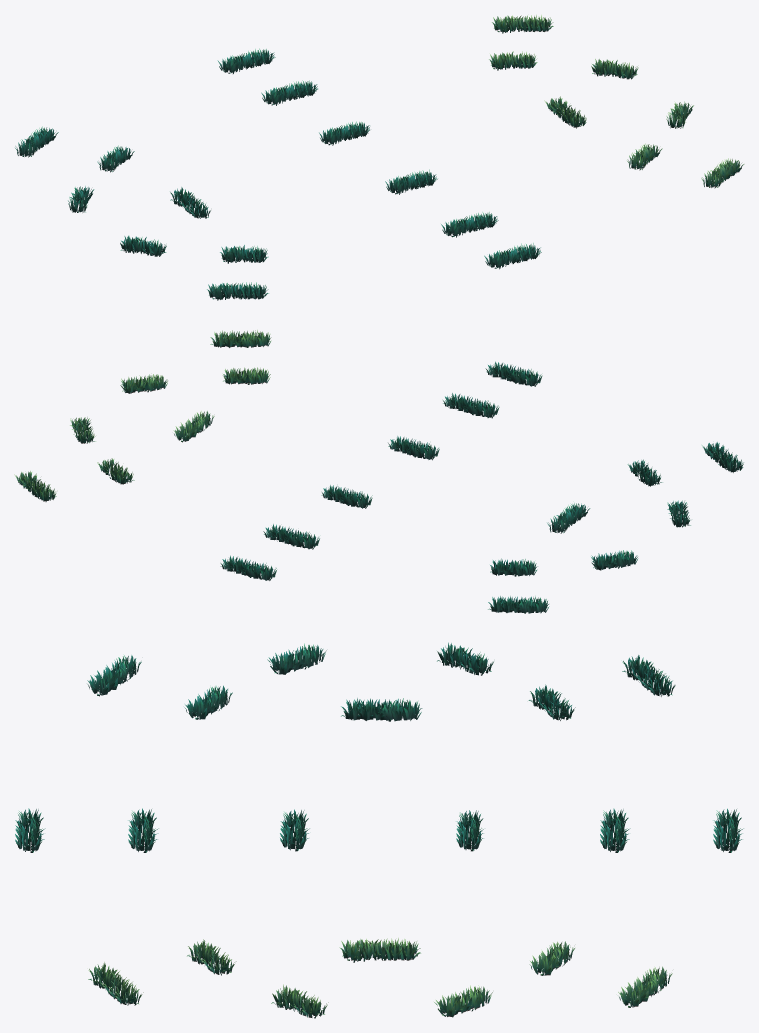
Rendered from pref_SightBlockerGrasses02_WSJ_alpha01_lv1.fbx.
3 views of the same model, one above another, from view 1: azimuth 30°, elevation 25°; view 2: azimuth 150°, elevation 25°; view 3: azimuth 270°, elevation 25° (orthographic). The views are drawn at different scales.
Parts seen in each view (by area): view 1: pref_sm_beach_techgrass_alpha_01_lv1 (×9), pref_sm_beach_techgrass_alpha_yellow01_lv1 (×3), pref_sm_beach_techgrass_alpha_03_lv1 (×3), pref_sm_beach_techgrass_alpha_yellow03_lv1 (×3); view 2: pref_sm_beach_techgrass_alpha_01_lv1 (×9), pref_sm_beach_techgrass_alpha_yellow01_lv1 (×3), pref_sm_beach_techgrass_alpha_yellow03_lv1 (×3), pref_sm_beach_techgrass_alpha_03_lv1 (×3); view 3: pref_sm_beach_techgrass_alpha_01_lv1 (×9), pref_sm_beach_techgrass_alpha_03_lv1 (×4), pref_sm_beach_techgrass_alpha_yellow03_lv1 (×4), pref_sm_beach_techgrass_alpha_yellow01_lv1 (×3).
Boxes of the visible parts, <box> form: pref_sm_beach_techgrass_alpha_01_lv1 (×9): <box>15,48,541,300</box>; pref_sm_beach_techgrass_alpha_yellow01_lv1 (×3): <box>492,15,744,188</box>; pref_sm_beach_techgrass_alpha_03_lv1 (×3): <box>97,145,268,263</box>; pref_sm_beach_techgrass_alpha_yellow03_lv1 (×3): <box>489,51,662,170</box>; pref_sm_beach_techgrass_alpha_01_lv1 (×9): <box>220,361,743,613</box>; pref_sm_beach_techgrass_alpha_yellow01_lv1 (×3): <box>14,330,271,501</box>; pref_sm_beach_techgrass_alpha_yellow03_lv1 (×3): <box>97,367,270,484</box>; pref_sm_beach_techgrass_alpha_03_lv1 (×3): <box>490,459,662,576</box>; pref_sm_beach_techgrass_alpha_01_lv1 (×9): <box>15,655,743,852</box>; pref_sm_beach_techgrass_alpha_03_lv1 (×4): <box>184,642,575,720</box>; pref_sm_beach_techgrass_alpha_yellow03_lv1 (×4): <box>187,939,574,1018</box>; pref_sm_beach_techgrass_alpha_yellow01_lv1 (×3): <box>88,938,672,1007</box>.
Bounding box in the file's own units: 74.46 × 1.86 × 62.69.
